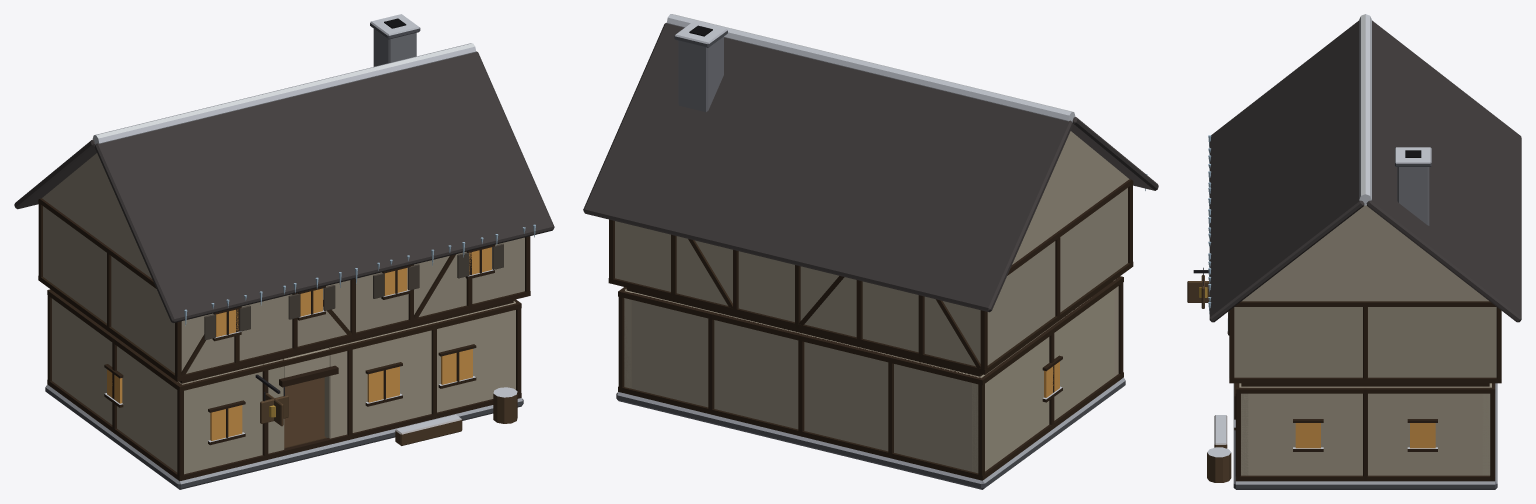
Rendered from village_tavern.glb.
The picture shows the model from 3 angles, left to right: view 1: azimuth 30°, elevation 25°; view 2: azimuth 150°, elevation 25°; view 3: azimuth 270°, elevation 25°; orthographic projection. The views are drawn at different scales.
Visible parts, largest first — view 1: village_tavern; view 2: village_tavern; view 3: village_tavern.
Boxes of the visible parts, <box> form: village_tavern: <box>14,14,554,489</box>; village_tavern: <box>583,14,1158,489</box>; village_tavern: <box>1187,14,1521,489</box>.
Size of the model in its own units: 13.6 by 11.08 by 10.5.
